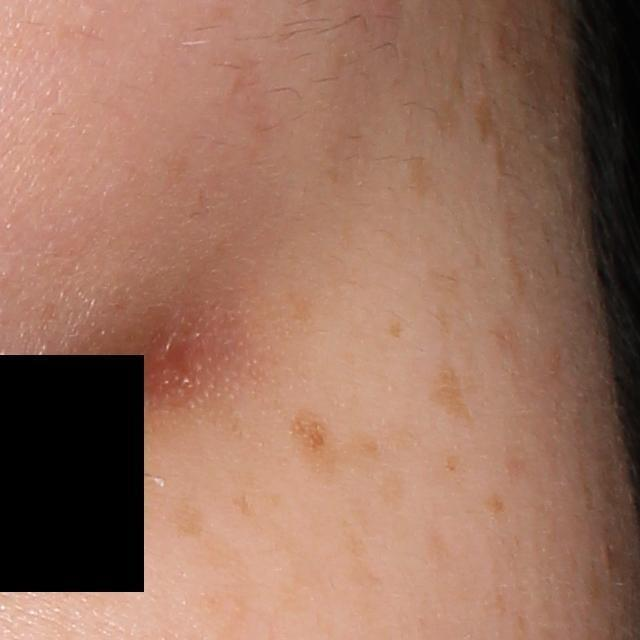melasma: (467, 72, 511, 183), (416, 259, 459, 336), (290, 406, 339, 471), (429, 356, 471, 428), (499, 188, 526, 294), (405, 151, 441, 203), (165, 504, 207, 540), (373, 464, 410, 501), (351, 433, 382, 464), (482, 491, 509, 516), (384, 318, 408, 345), (440, 451, 462, 473)
